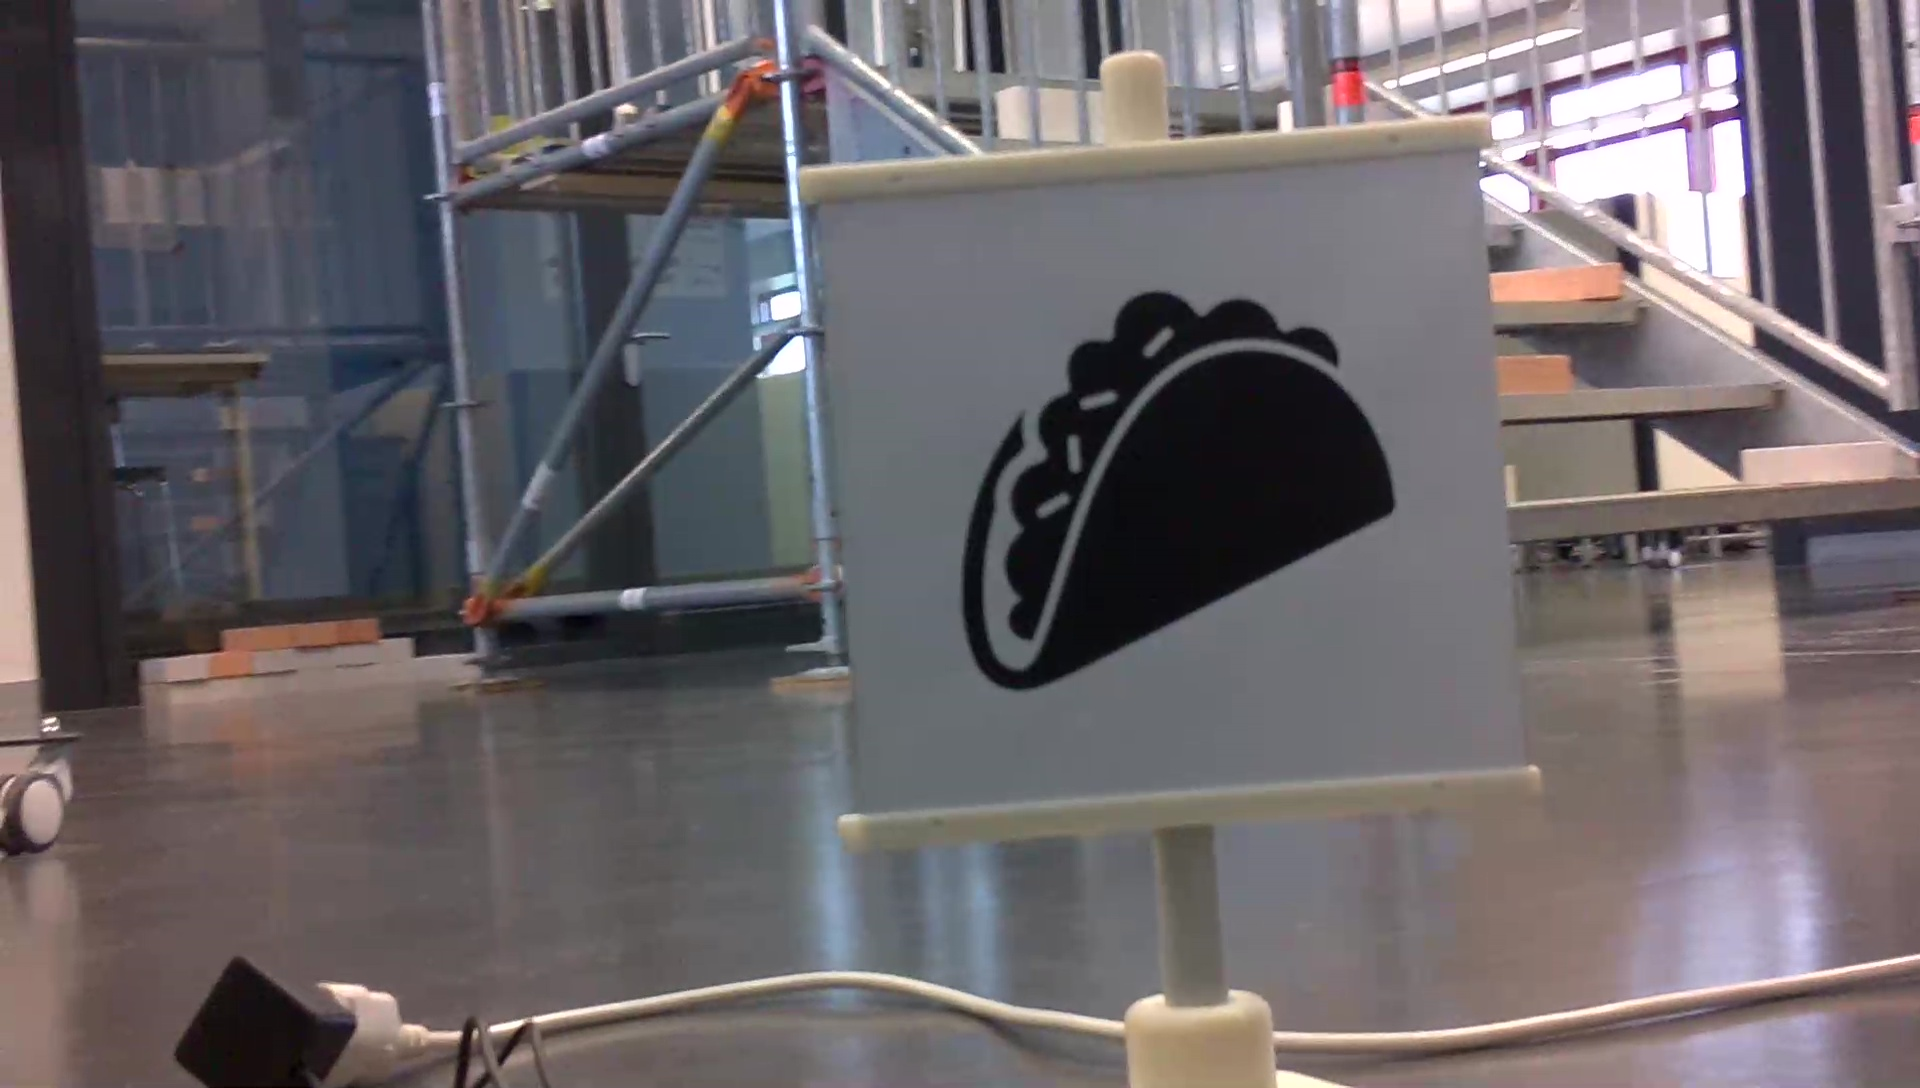brick: (1745, 440, 1890, 481), (1491, 266, 1621, 298), (1499, 357, 1565, 390)
taco: (943, 280, 1407, 703)
